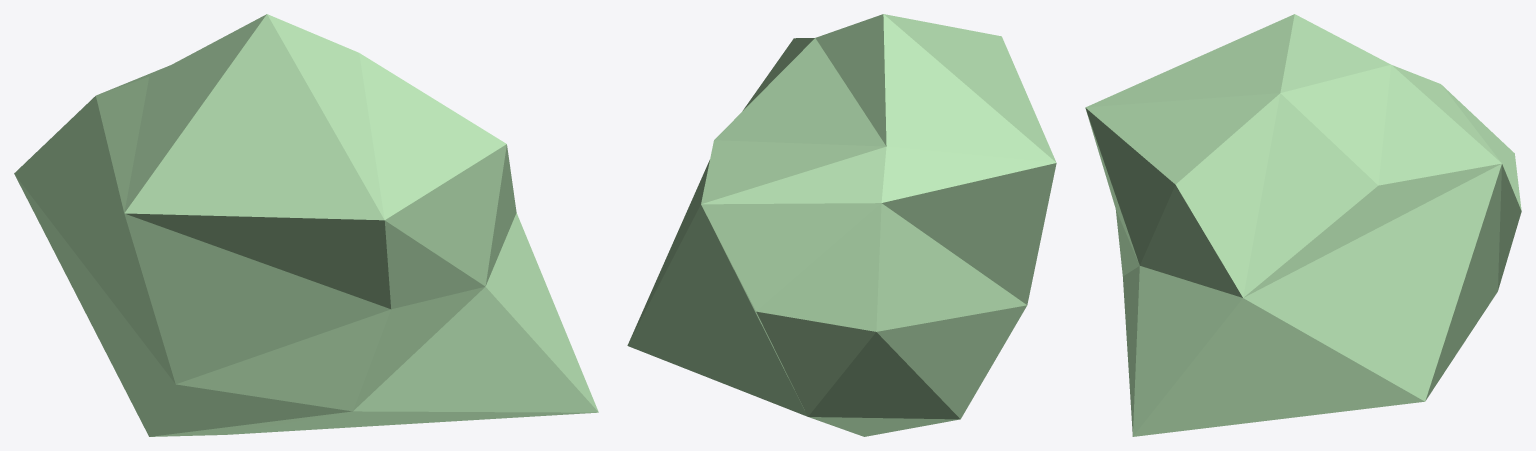
File: item_uranium_chunk_m.glb
3 views of the same model, side by side, from view 1: azimuth 30°, elevation 25°; view 2: azimuth 150°, elevation 25°; view 3: azimuth 270°, elevation 25° (orthographic). The views are drawn at different scales.
Visible parts, largest first — view 1: UraniumBlob_Med; view 2: UraniumBlob_Med; view 3: UraniumBlob_Med.
Boxes of the visible parts, x1,y1,x2,y2 form: UraniumBlob_Med: [14, 14, 598, 436]; UraniumBlob_Med: [627, 14, 1056, 436]; UraniumBlob_Med: [1085, 14, 1521, 436].
Size of the model in its own units: 0.226 by 0.2366 by 0.2513.
